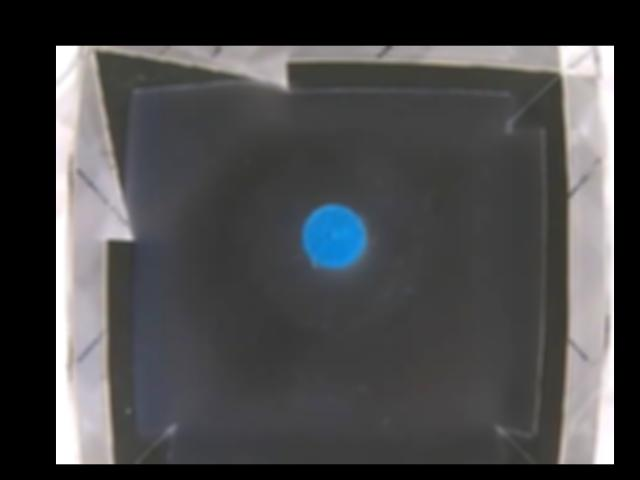Carrot: (301, 203, 366, 268)
